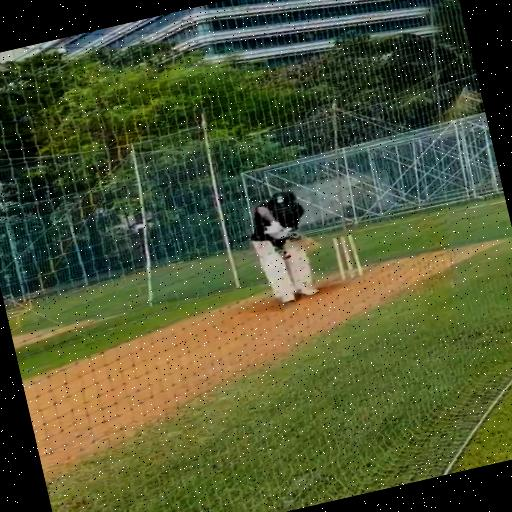Cricket bat: (286, 228, 319, 251)
